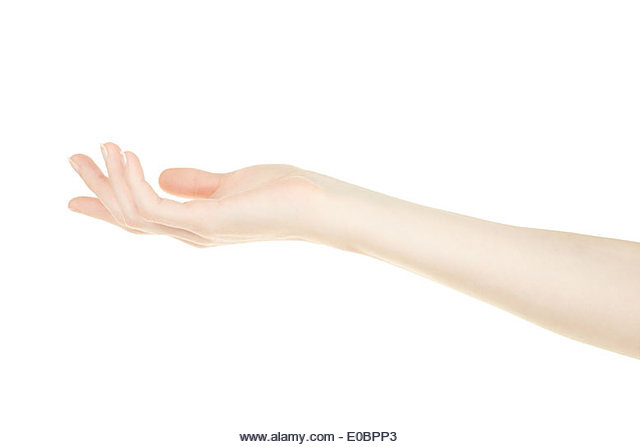hand: (44, 123, 352, 299)
